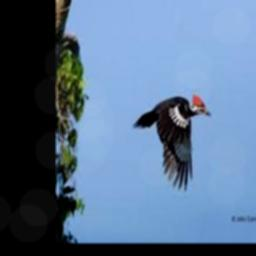Woodpecker: (132, 93, 211, 191)
